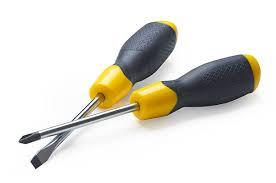screwdriver: (28, 143, 63, 169), (16, 122, 45, 145)
